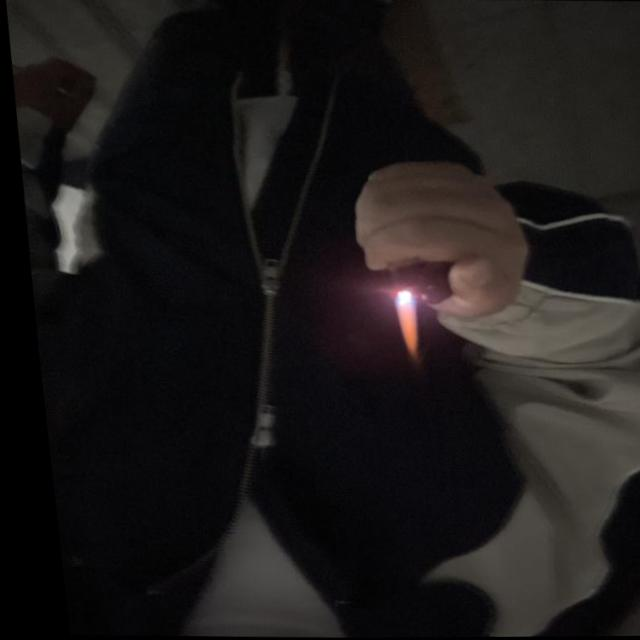Fire: (383, 297, 417, 355)
